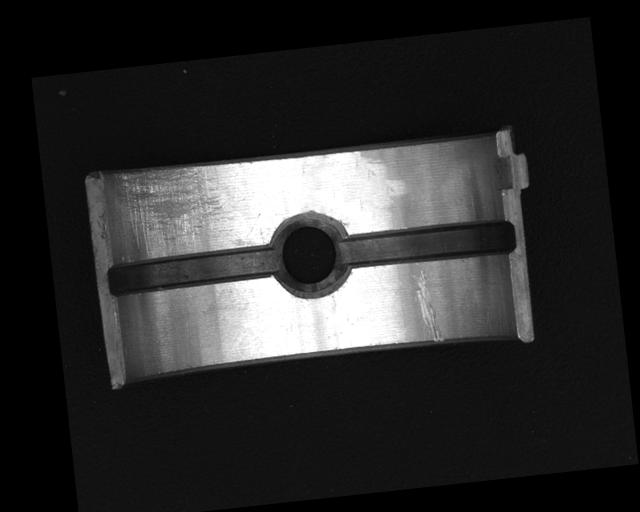gap: (339, 215, 518, 276), (104, 243, 276, 299)
hole: (267, 209, 354, 299)
nick: (410, 267, 445, 344)
scratch: (109, 158, 238, 260)
